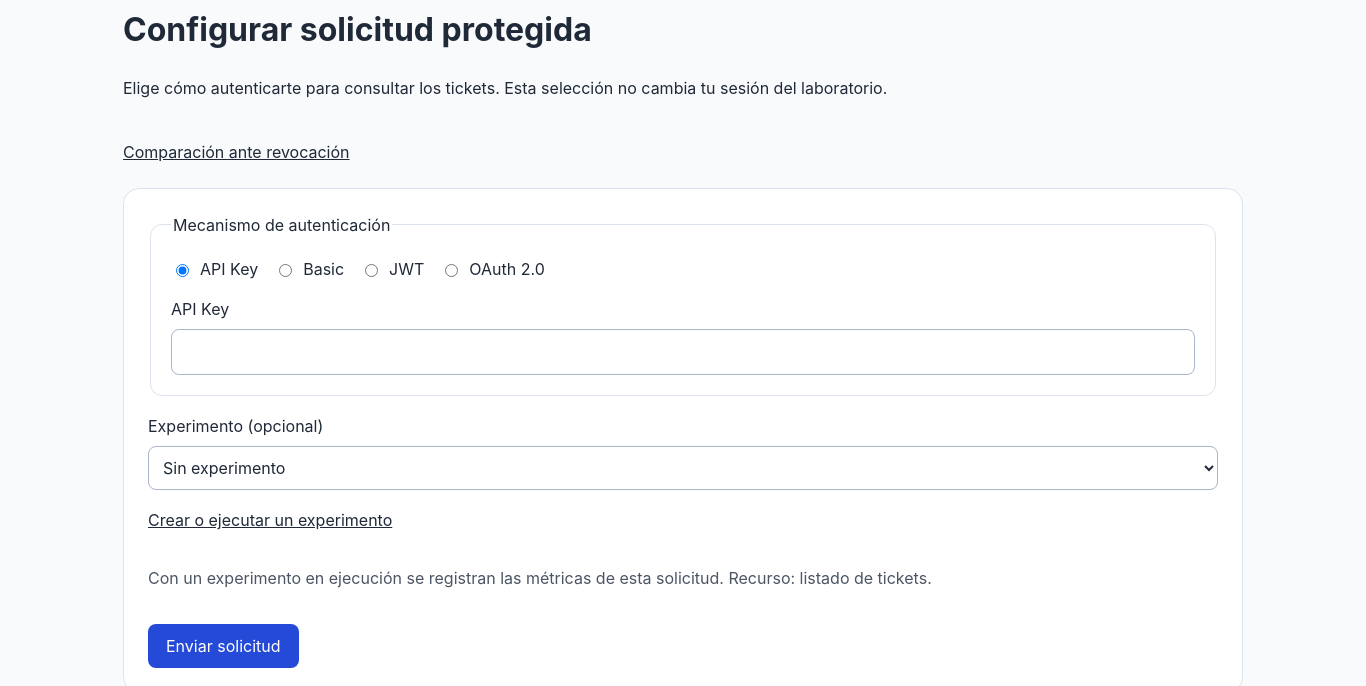
Test: envía únicamente la configuración elegida y distingue 401 de 403
Click the button "Enviar solicitud". click: (223, 646)
box: [148, 624, 298, 668]
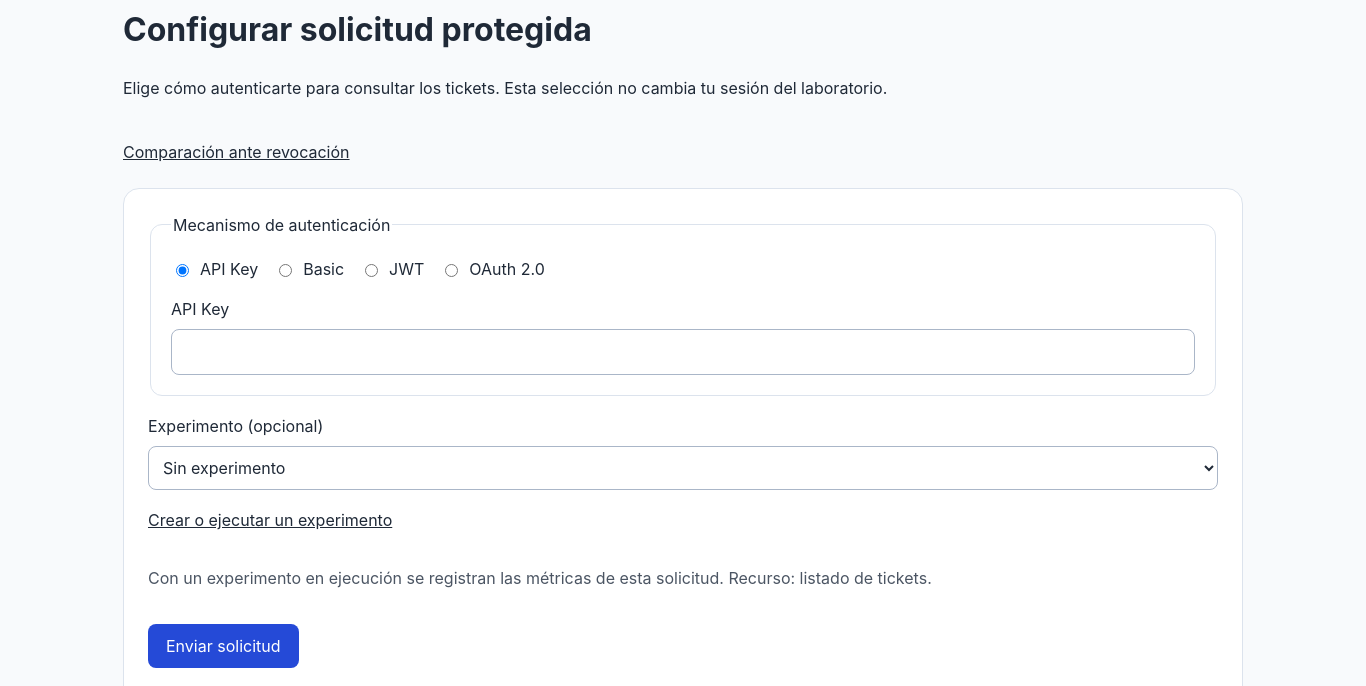
Click the radio button labelled "OAuth 2.0". click: (452, 270)
box: [445, 264, 458, 277]
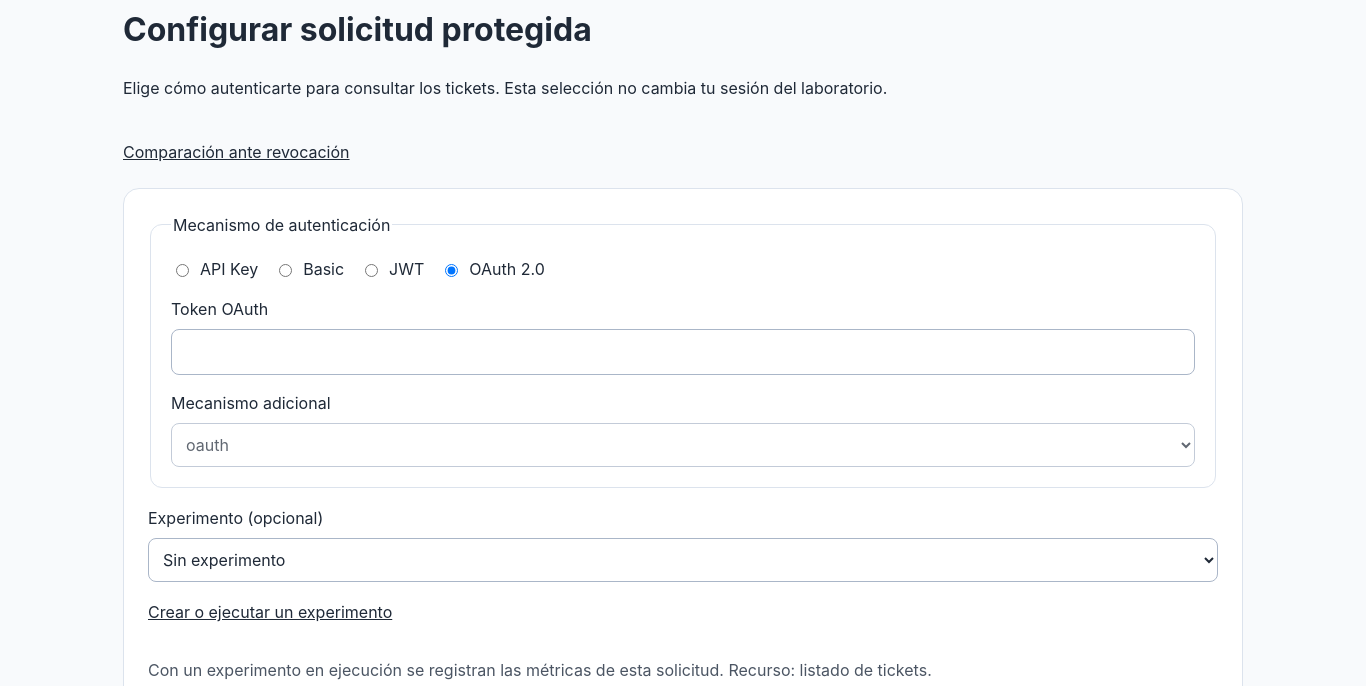
Type "token-prueba" into the password field labelled "Token OAuth". click: (683, 352)
box: [171, 329, 1195, 375]
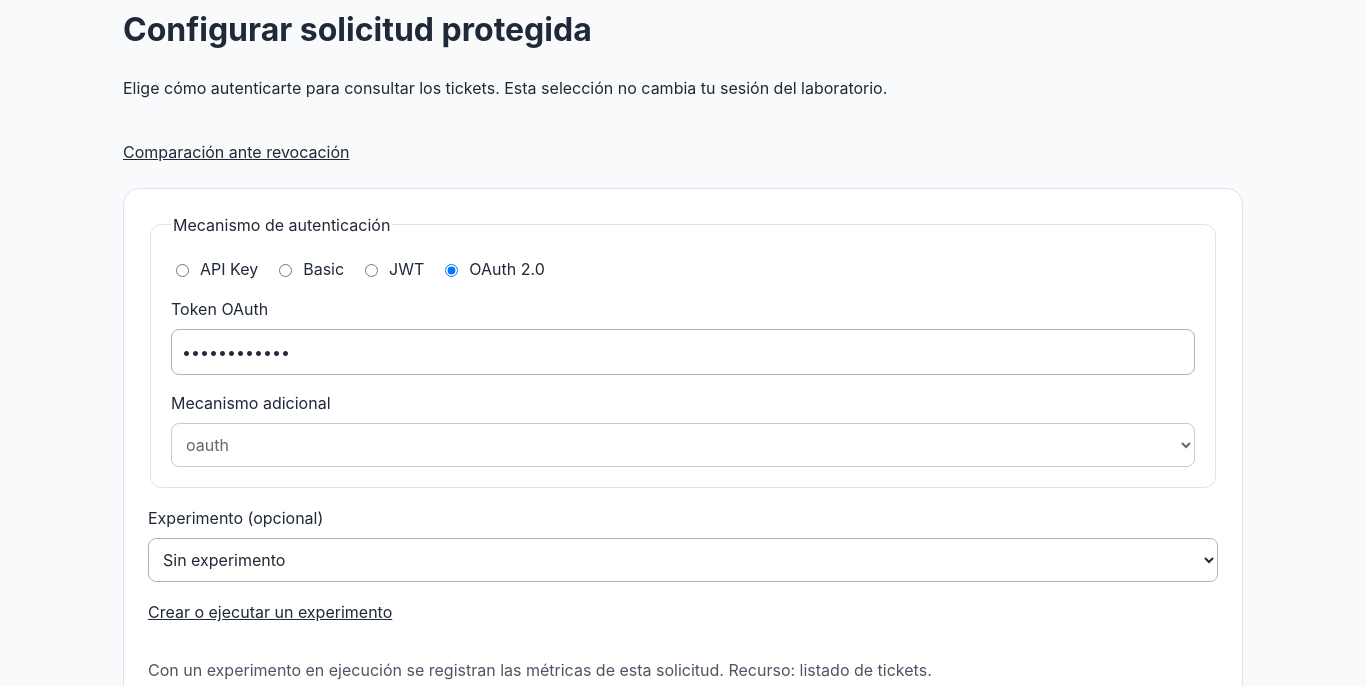
Select "#12 · Prueba OAuth" in the dropdown labelled "Experimento (opcional)". click: (683, 560)
box: [148, 538, 1218, 582]
(page scrolled)
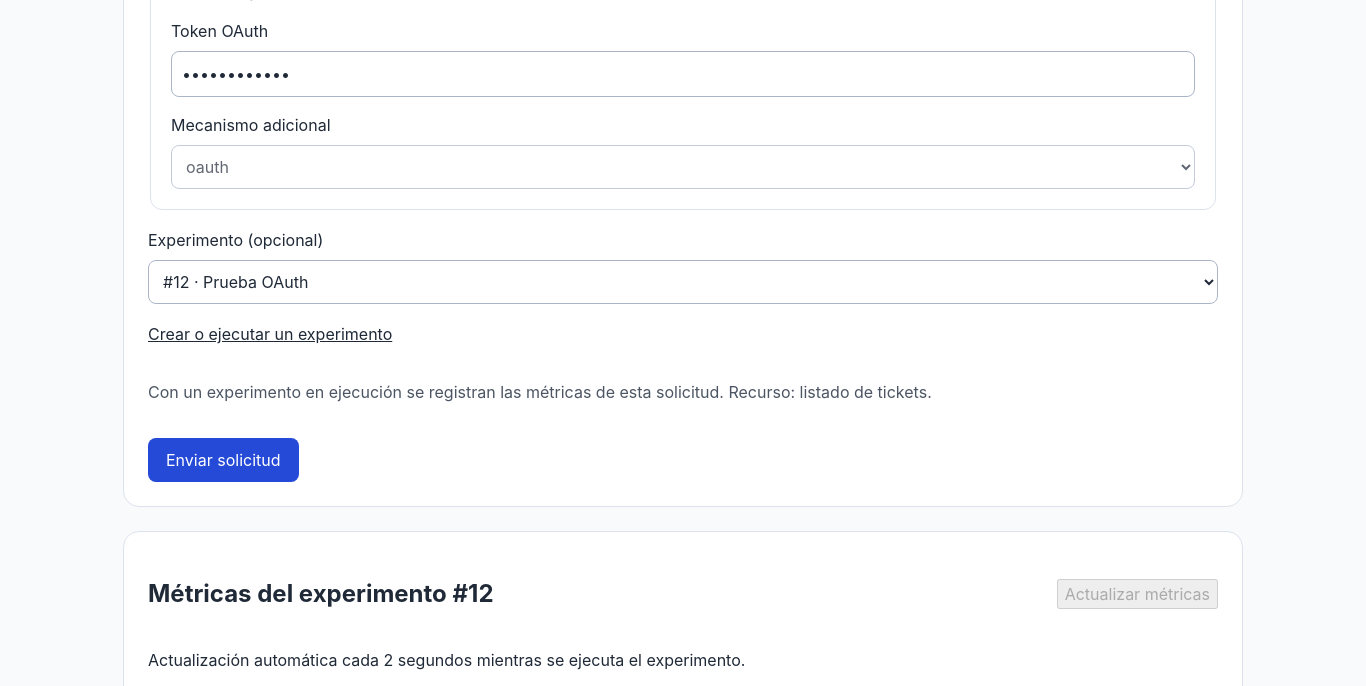
Click the button "Enviar solicitud". click: (223, 460)
box: [148, 438, 298, 482]
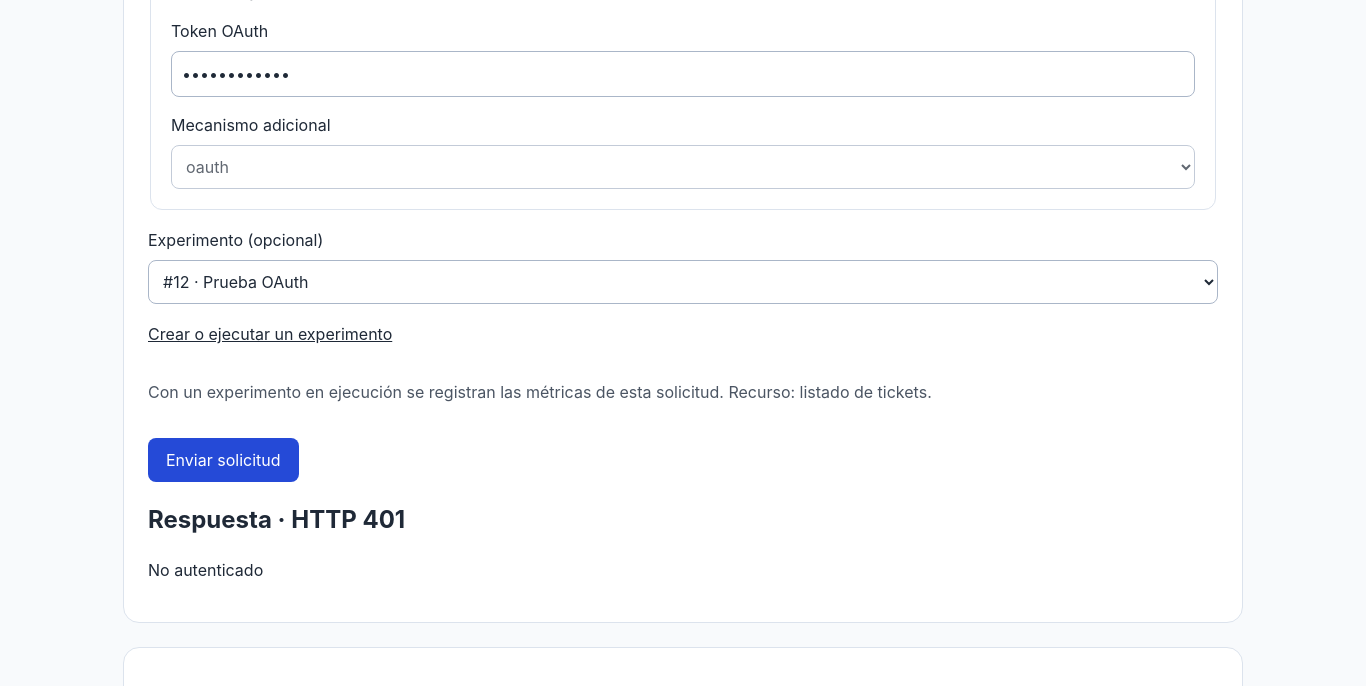
Now the text "No autenticado" is shown, box [148, 560, 263, 580]
Click the button "Enviar solicitud". click: (223, 460)
box: [148, 438, 298, 482]
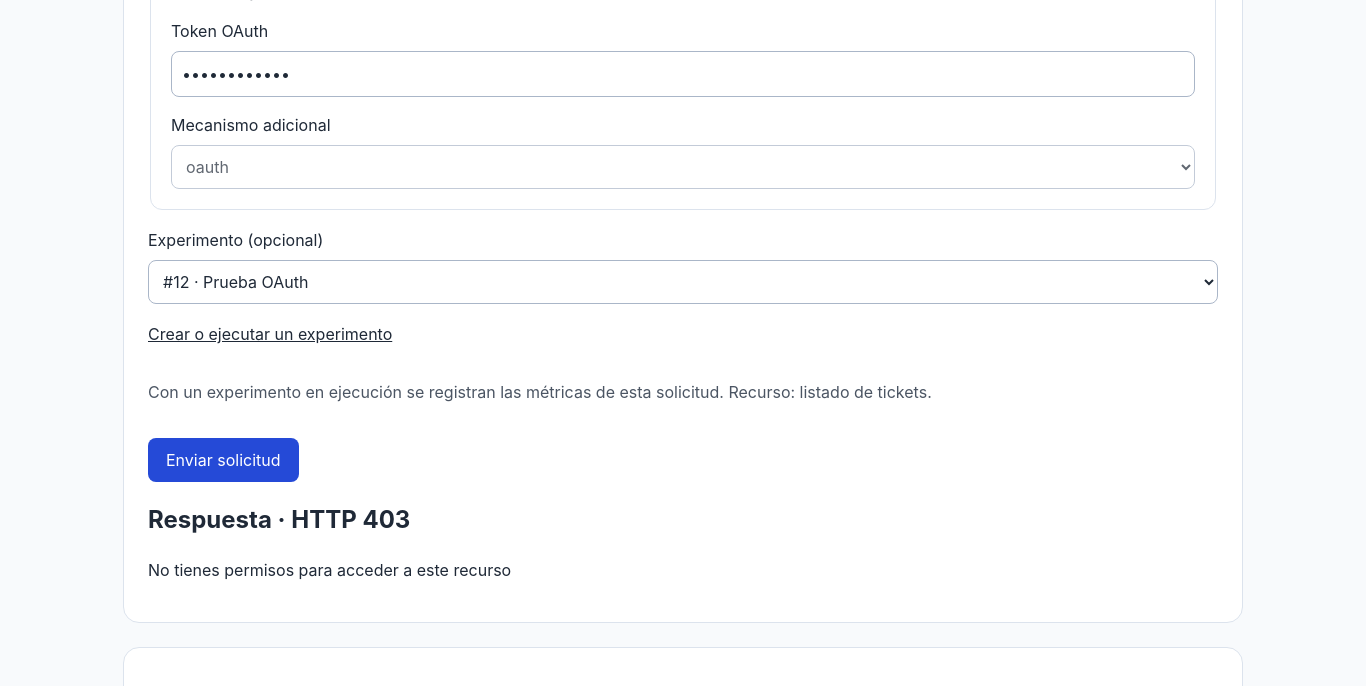
Now the text "No tienes permisos para acceder a este recurso" is shown, box [148, 560, 511, 580]
